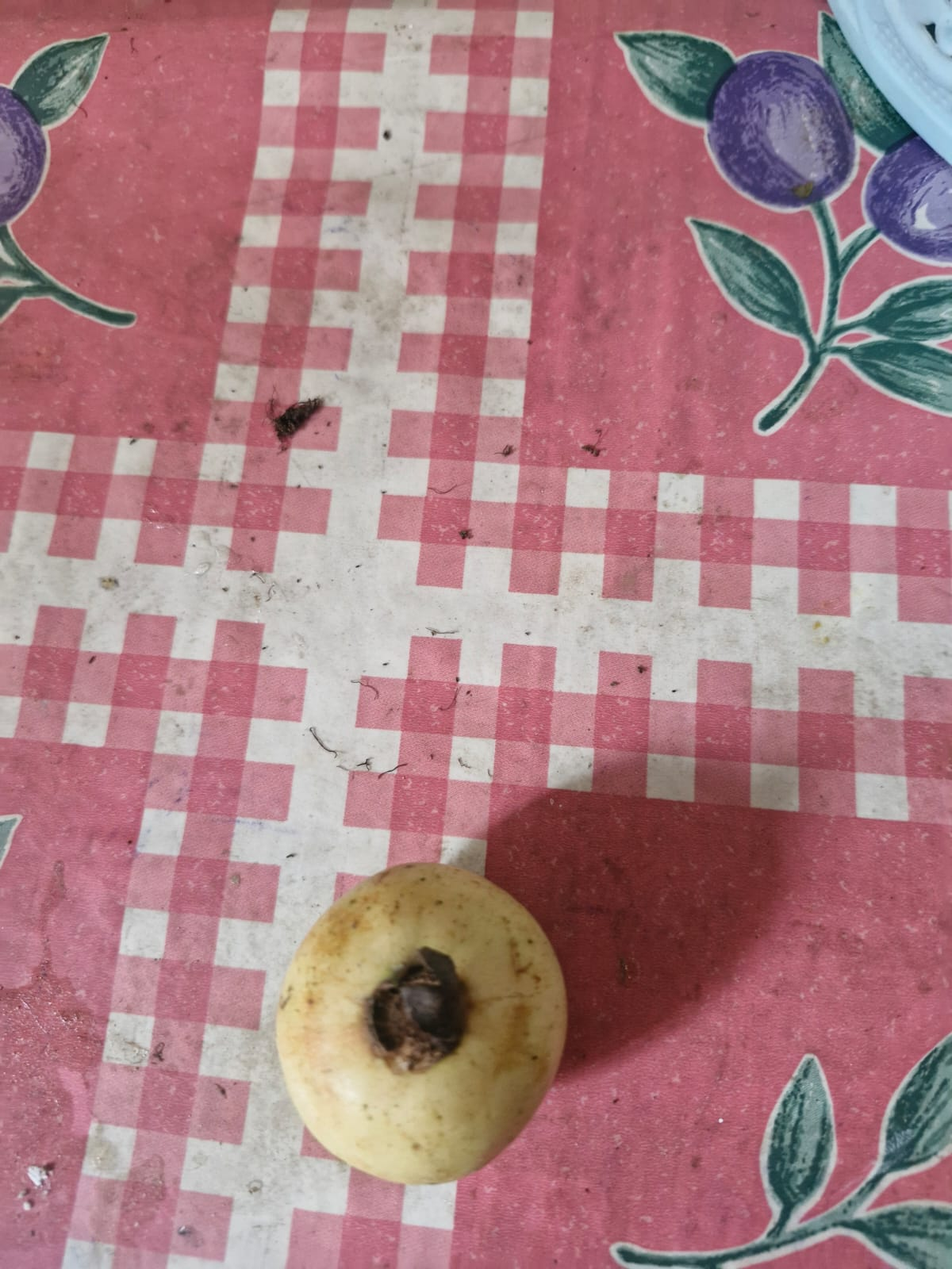guava: (139, 77, 767, 1217)
